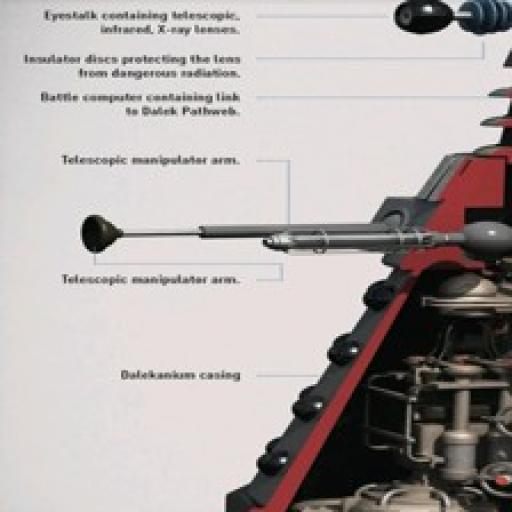dalek: (41, 0, 512, 512)
